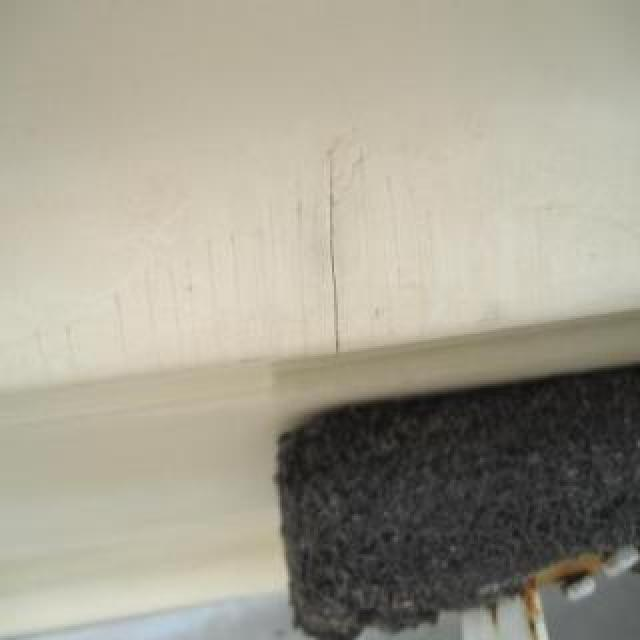crack: (255, 201, 295, 365), (358, 143, 376, 349), (328, 144, 344, 360), (409, 179, 429, 341), (384, 172, 406, 318), (294, 190, 312, 364), (228, 226, 250, 366), (204, 235, 224, 365), (183, 255, 203, 369)
